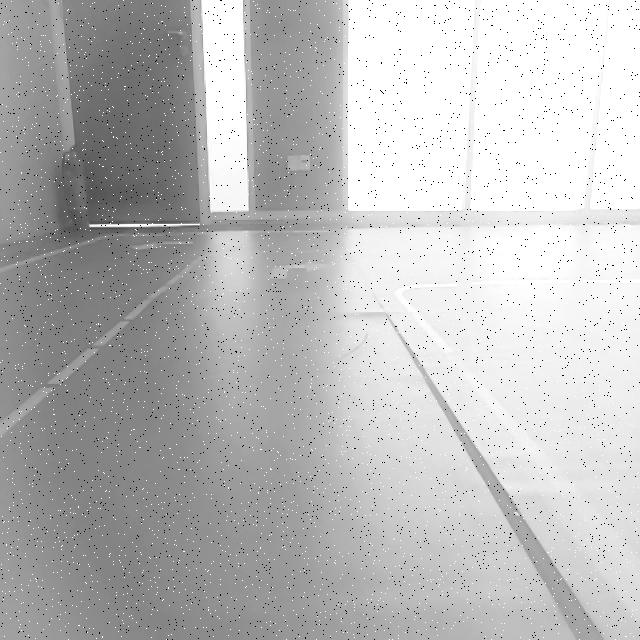left_lane: (0, 253, 202, 438)
right_lane: (393, 292, 639, 620)
